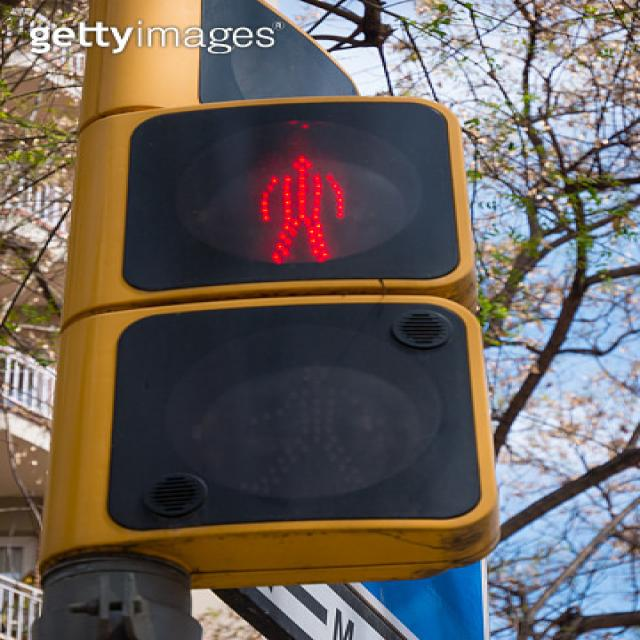Not go: (153, 106, 478, 529), (135, 87, 456, 290)
